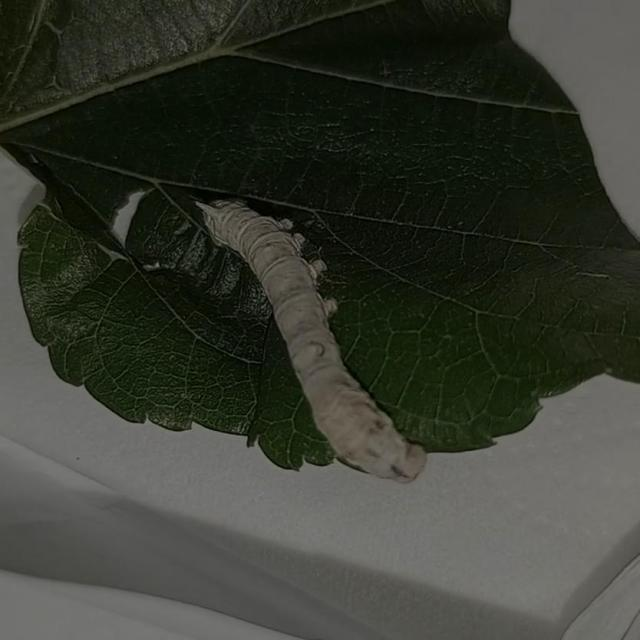Healthy: (177, 166, 470, 523)
